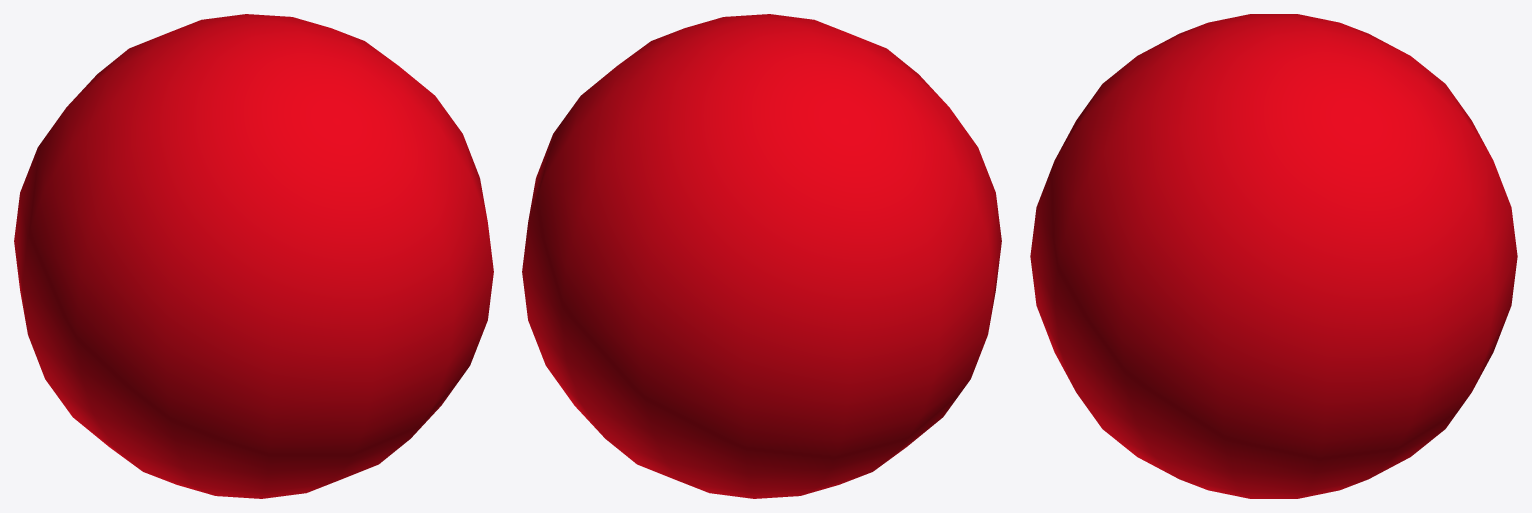
3 renders of one model, left to right at view 1: azimuth 30°, elevation 25°; view 2: azimuth 150°, elevation 25°; view 3: azimuth 270°, elevation 25°, orthographic.
Visible parts, largest first — view 1: Sphere; view 2: Sphere; view 3: Sphere.
Part boxes in pixels (x1=…): Sphere: x1=14, y1=14, x2=493, y2=498; Sphere: x1=522, y1=14, x2=1001, y2=498; Sphere: x1=1030, y1=14, x2=1517, y2=498.
Bounding box in the file's own units: 34.03 × 34.91 × 34.91.
